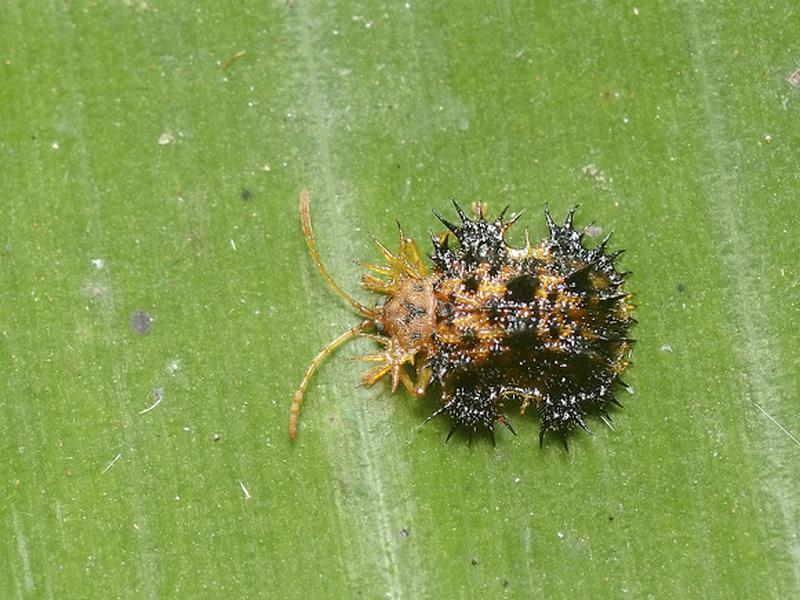Spiny_beetle: (317, 197, 693, 444)
